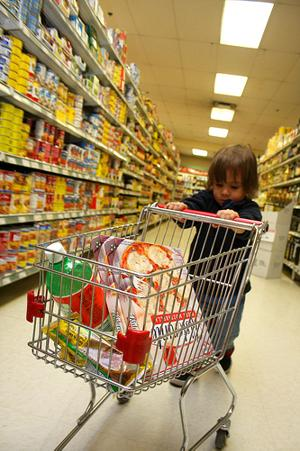person: (160, 140, 271, 394)
